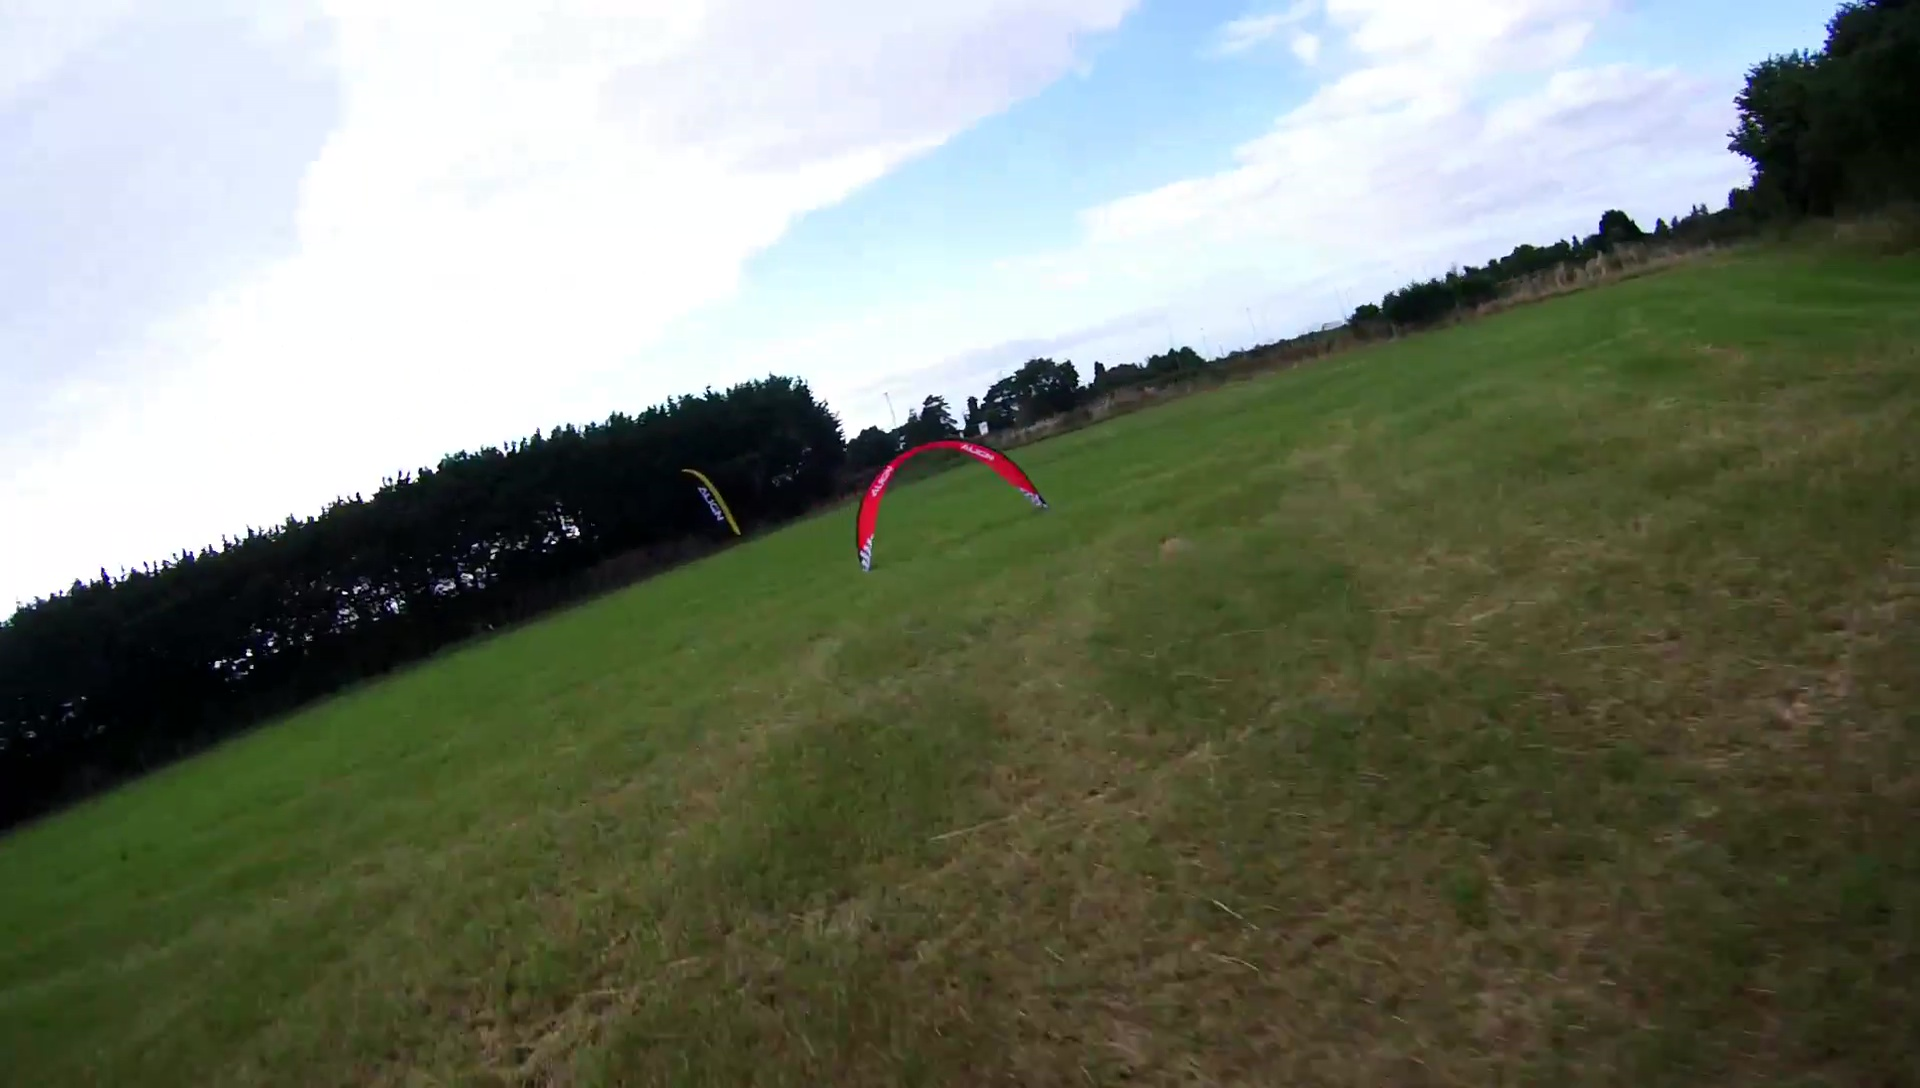gate: (855, 437, 1054, 575)
